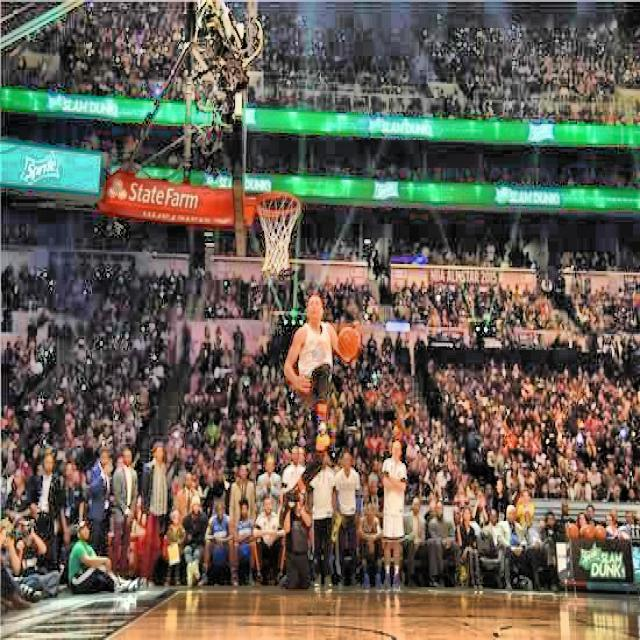rim: (257, 190, 299, 274)
